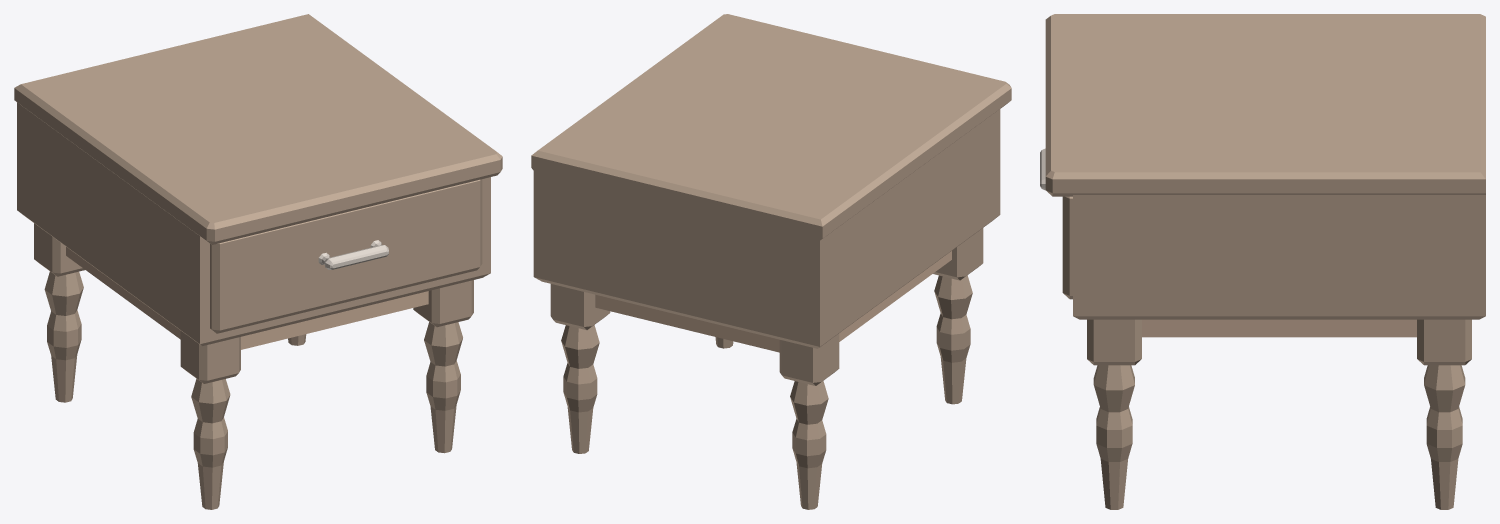
File: Prop_Living_Room_Side_Table.fbx
The picture shows the model from 3 angles, left to right: view 1: azimuth 30°, elevation 25°; view 2: azimuth 150°, elevation 25°; view 3: azimuth 270°, elevation 25°; orthographic projection. The views are drawn at different scales.
Parts seen in each view (by area): view 1: object3.016, object1.035, object2.021; view 2: object3.016; view 3: object3.016, object1.035.
Part boxes in pixels (x1,y1,x2,y2): object3.016: (14,14,502,509); object1.035: (210,179,482,333); object2.021: (318,240,388,269); object3.016: (531,14,1011,509); object3.016: (1045,14,1485,509); object1.035: (1062,196,1072,299).
Bounding box in the file's own units: 70 × 70 × 81.01.
